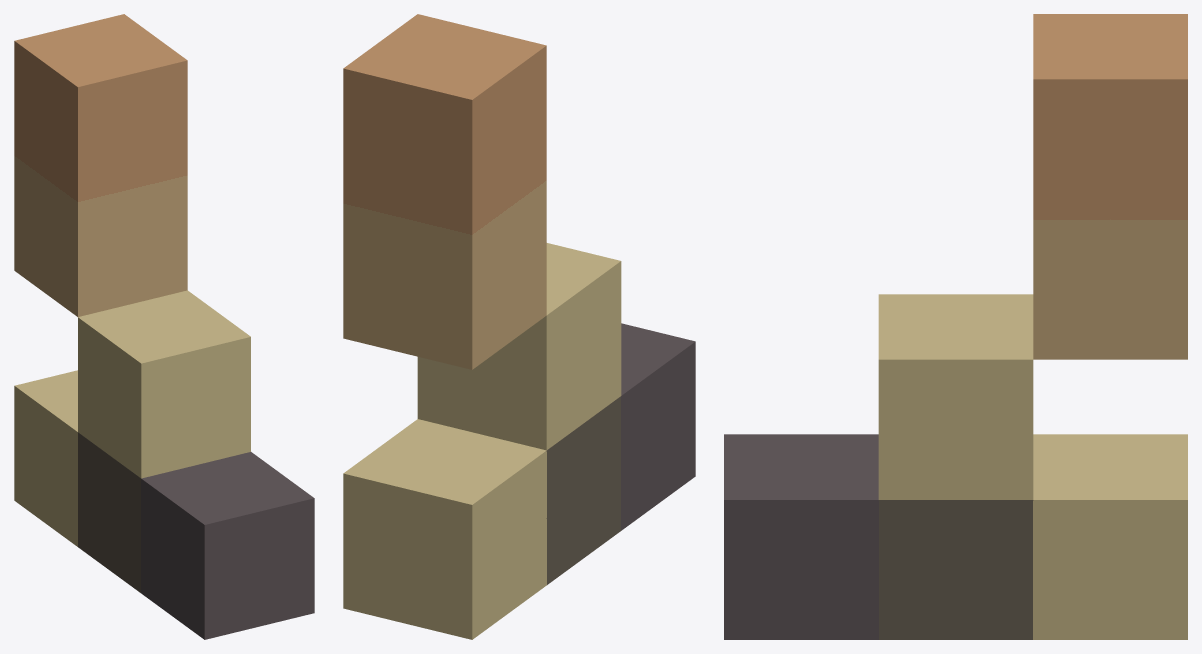
The model's file is can_sniper-1.fbx.
3 renders of one model, left to right at view 1: azimuth 30°, elevation 25°; view 2: azimuth 150°, elevation 25°; view 3: azimuth 270°, elevation 25°, orthographic. The views are drawn at different scales.
Parts seen in each view (by area): view 1: can_sniper-1.001; view 2: can_sniper-1.001; view 3: can_sniper-1.001.
Boxes of the visible parts, x1,y1,x2,y2 form: can_sniper-1.001: [14, 14, 314, 639]; can_sniper-1.001: [343, 14, 695, 639]; can_sniper-1.001: [724, 14, 1187, 639].
Size of the model in its own units: 0.1 by 0.4 by 0.3.
Materials: 1 (1 with a texture image).
